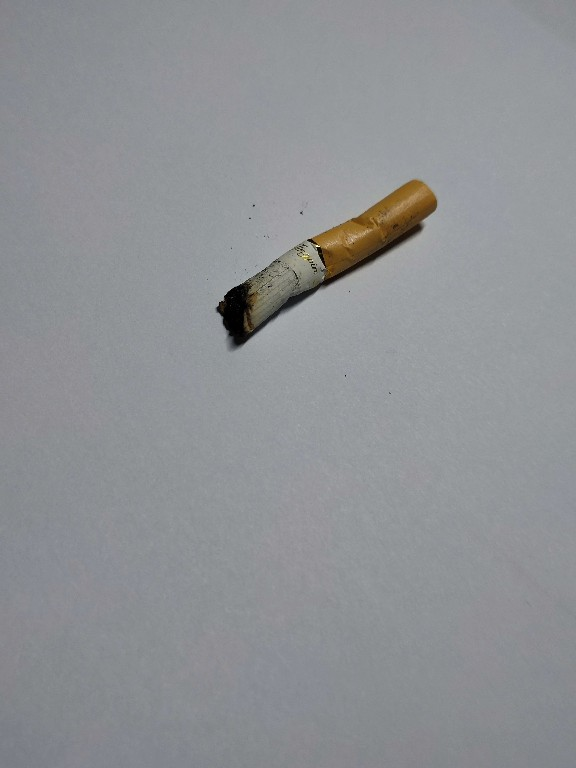cigarette: (214, 173, 444, 348)
